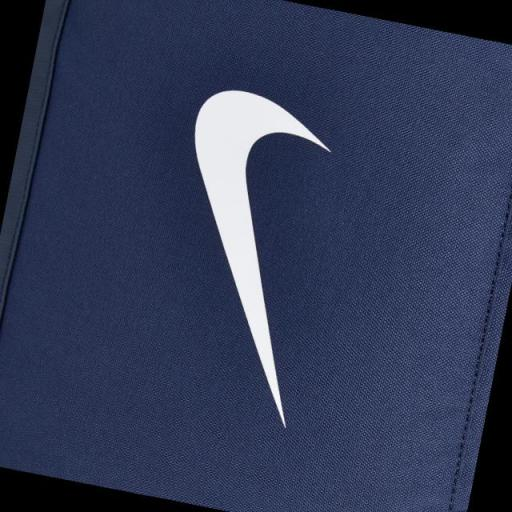Nike: (138, 79, 348, 426)
